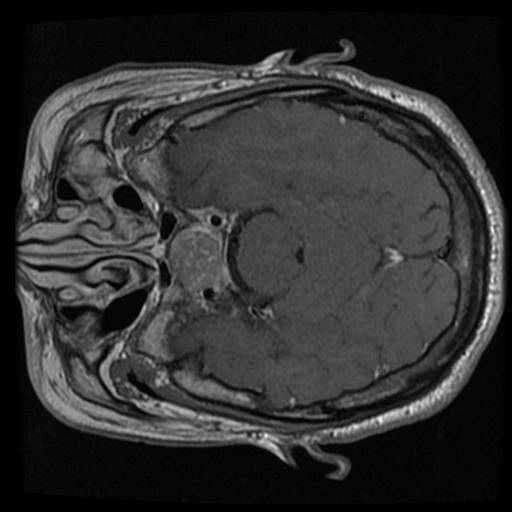pituitary tumour: (167, 229, 224, 301)
